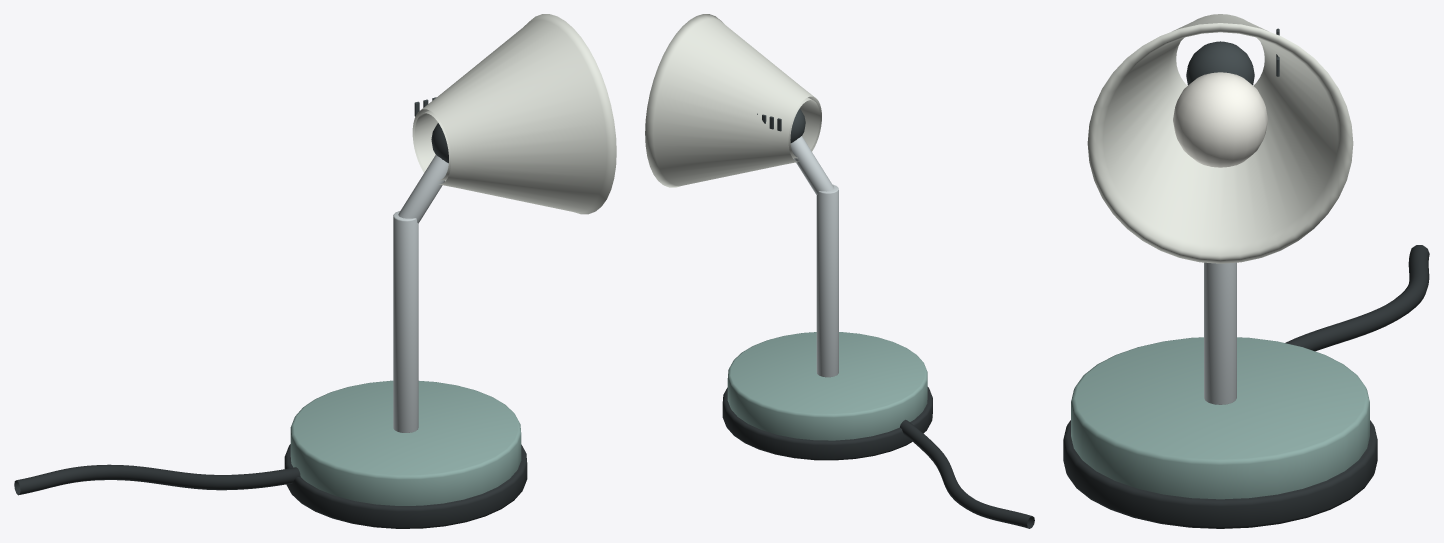
File: pondweed-lamp.glb
3 renders of one model, left to right at view 1: azimuth 30°, elevation 25°; view 2: azimuth 150°, elevation 25°; view 3: azimuth 270°, elevation 25°, orthographic. The views are drawn at different scales.
Parts seen in each view (by area): view 1: Open metal reflector, Weighted enamel lamp base, Rubber anti slip foot, Chrome lamp upright, Lamp flex, Adjustable lamp neck; view 2: Open metal reflector, Weighted enamel lamp base, Rubber anti slip foot, Chrome lamp upright, Lamp flex, Adjustable lamp neck; view 3: Open metal reflector, Weighted enamel lamp base, Rubber anti slip foot, Frosted light bulb, Chrome lamp upright, Lamp flex, Lamp swivel.
Part boxes in pixels (x1,y1,x2,y2): Open metal reflector: (412, 14, 616, 214); Weighted enamel lamp base: (290, 380, 521, 505); Rubber anti slip foot: (284, 444, 527, 528); Chrome lamp upright: (393, 211, 418, 432); Lamp flex: (14, 464, 300, 495); Adjustable lamp neck: (398, 155, 448, 223); Open metal reflector: (645, 14, 821, 187); Weighted enamel lamp base: (727, 332, 927, 440); Rubber anti slip foot: (722, 387, 932, 460); Chrome lamp upright: (816, 184, 838, 377); Lamp flex: (900, 419, 1034, 528); Adjustable lamp neck: (790, 136, 834, 195); Open metal reflector: (1087, 14, 1353, 263); Weighted enamel lamp base: (1071, 337, 1369, 499); Rubber anti slip foot: (1063, 420, 1377, 528); Frosted light bulb: (1173, 72, 1267, 167); Chrome lamp upright: (1204, 262, 1236, 404); Lamp flex: (1285, 245, 1429, 351); Lamp swivel: (1186, 41, 1254, 84).
Bounding box in the file's own units: 0.6359 × 0.54 × 0.3309.
